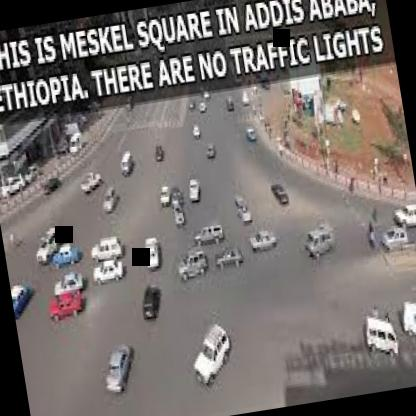car: (181, 317, 245, 396), (349, 298, 406, 370), (101, 328, 142, 403), (385, 276, 416, 359), (132, 264, 167, 332), (299, 218, 340, 270), (43, 290, 95, 328), (7, 267, 40, 325), (172, 245, 214, 288), (374, 218, 414, 262), (380, 186, 416, 233), (224, 184, 258, 232), (211, 238, 249, 280), (188, 219, 232, 254), (137, 229, 166, 282), (30, 223, 64, 268), (90, 255, 130, 292), (244, 223, 280, 263), (48, 241, 86, 275), (164, 184, 188, 233), (47, 272, 88, 298), (95, 182, 121, 220), (267, 175, 292, 212), (116, 142, 136, 181), (152, 180, 174, 212), (184, 174, 204, 206), (78, 172, 104, 196), (148, 142, 167, 165), (200, 138, 217, 162), (244, 124, 259, 146), (192, 121, 205, 142)
